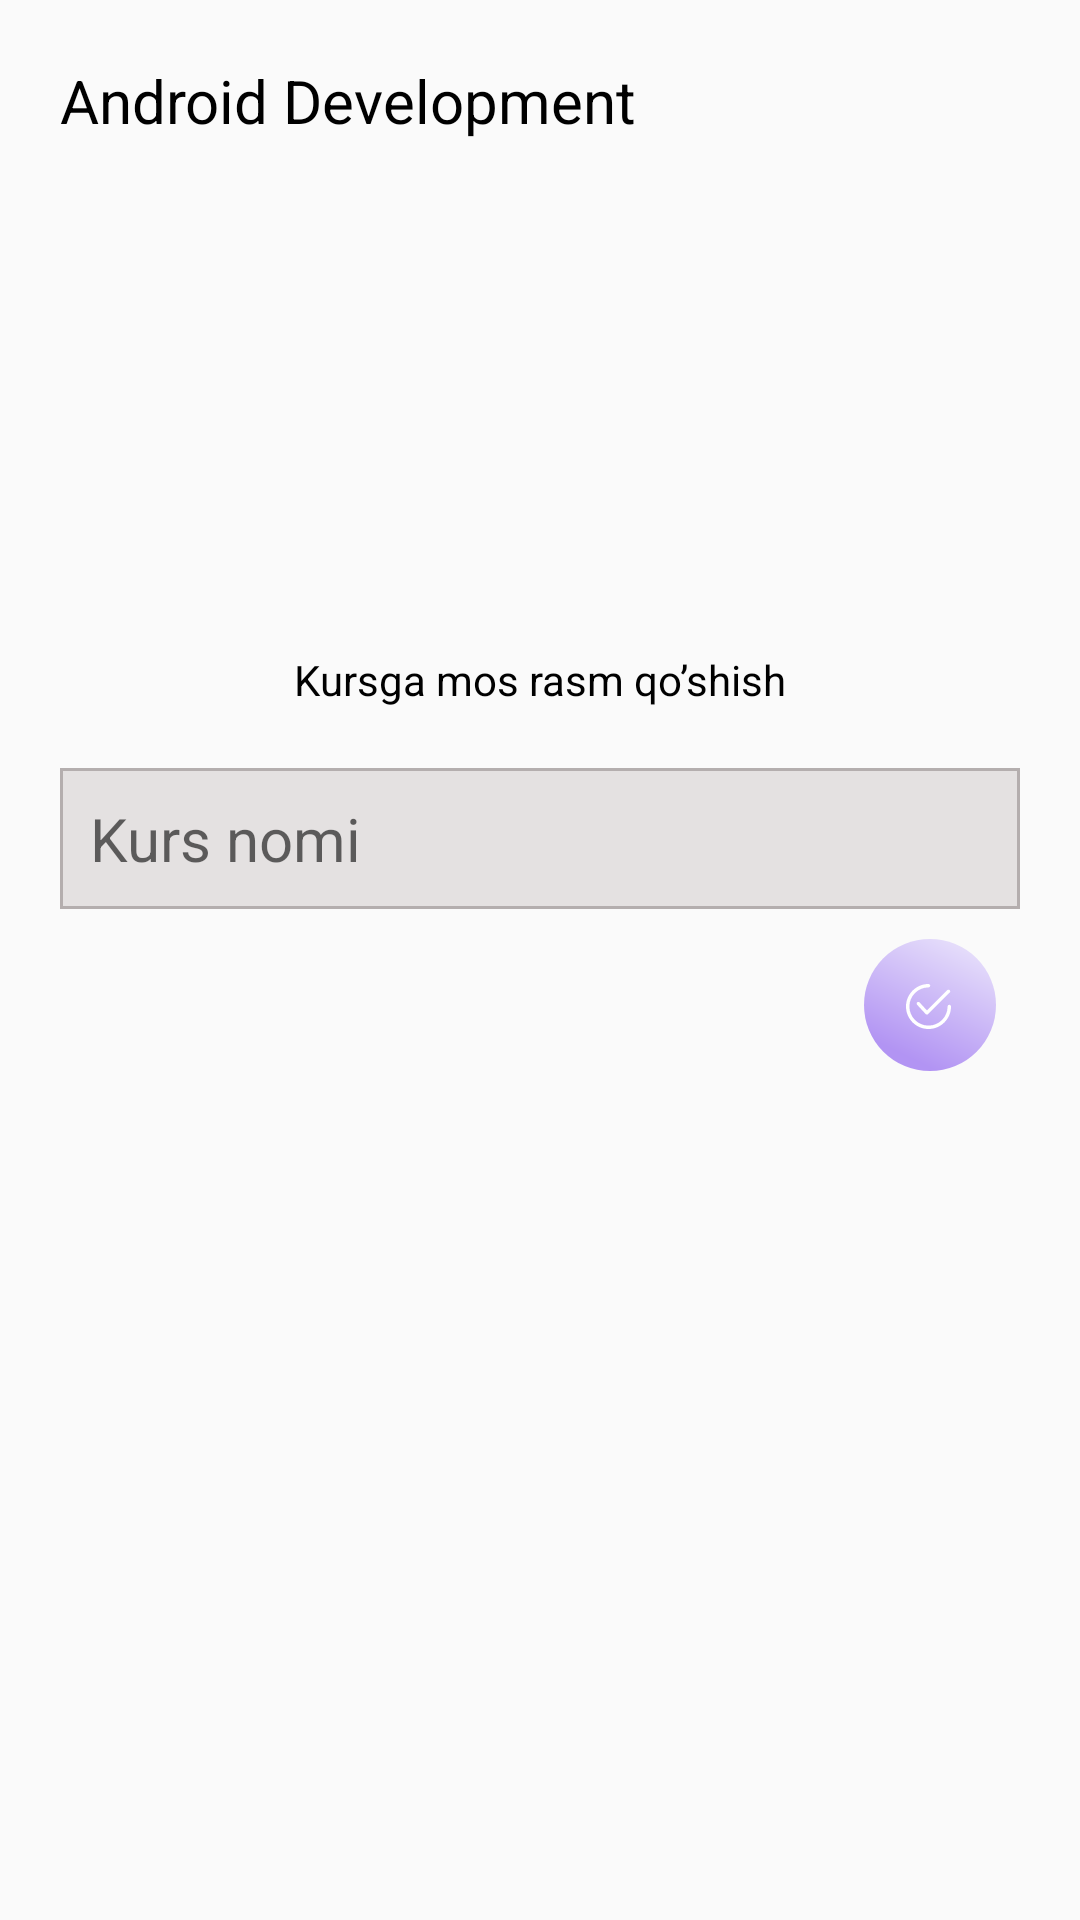

Locate icon controls on the screen. Image size 1080*1920, boxes as (x1=x1, y1=y1, x2=x2, y2=y2).
checked: (x1=864, y1=939, x2=996, y2=1071)
